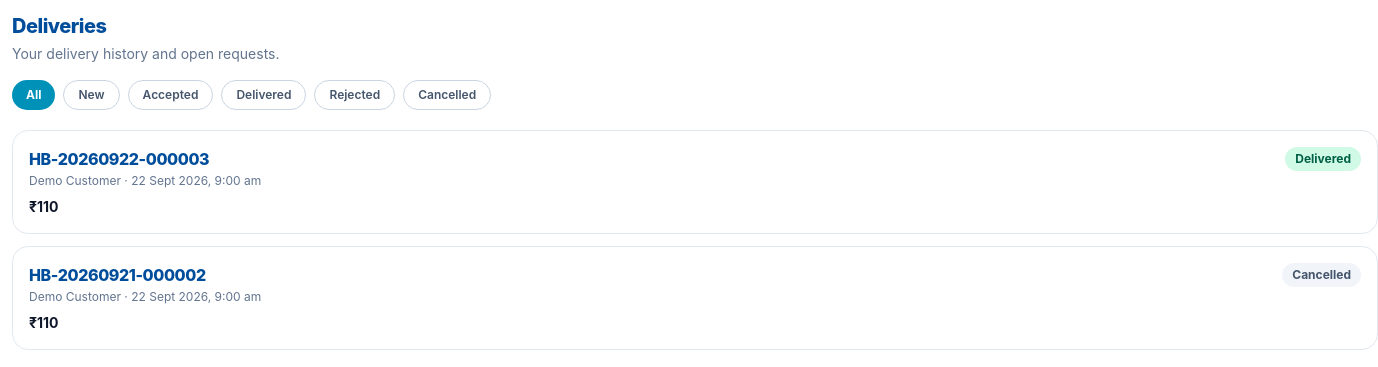
Test: delivery history › filters by status tab and passes the filter to the API
expect the text "HB-20260922-000003" is shown: met, box top-left (29, 149), bottom-right (209, 169)
Click the tab "Delivered". click: x=264, y=95
box: top-left (221, 80), bottom-right (306, 110)
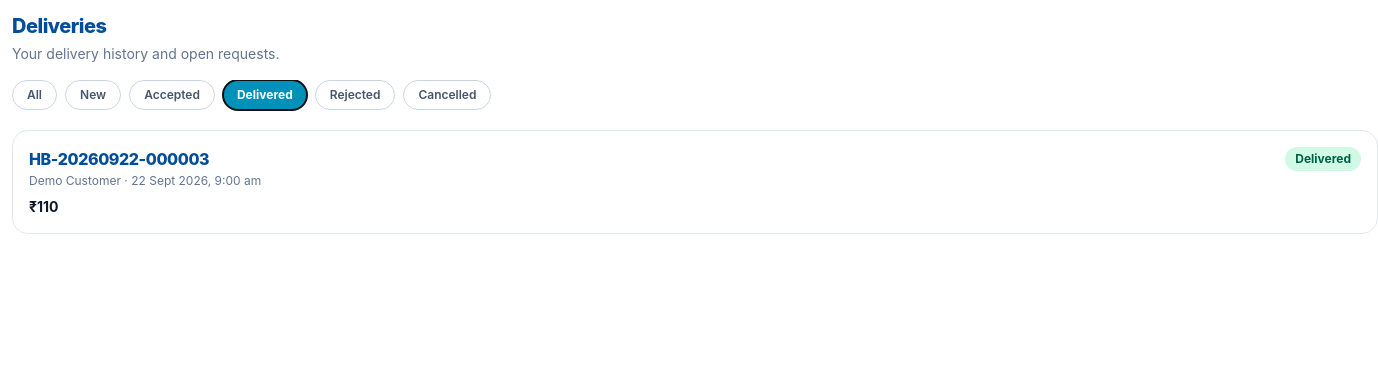
expect the text "HB-20260922-000003" is shown: met, box top-left (29, 149), bottom-right (209, 169)
expect the text "HB-20260921-000002" is gone: met
